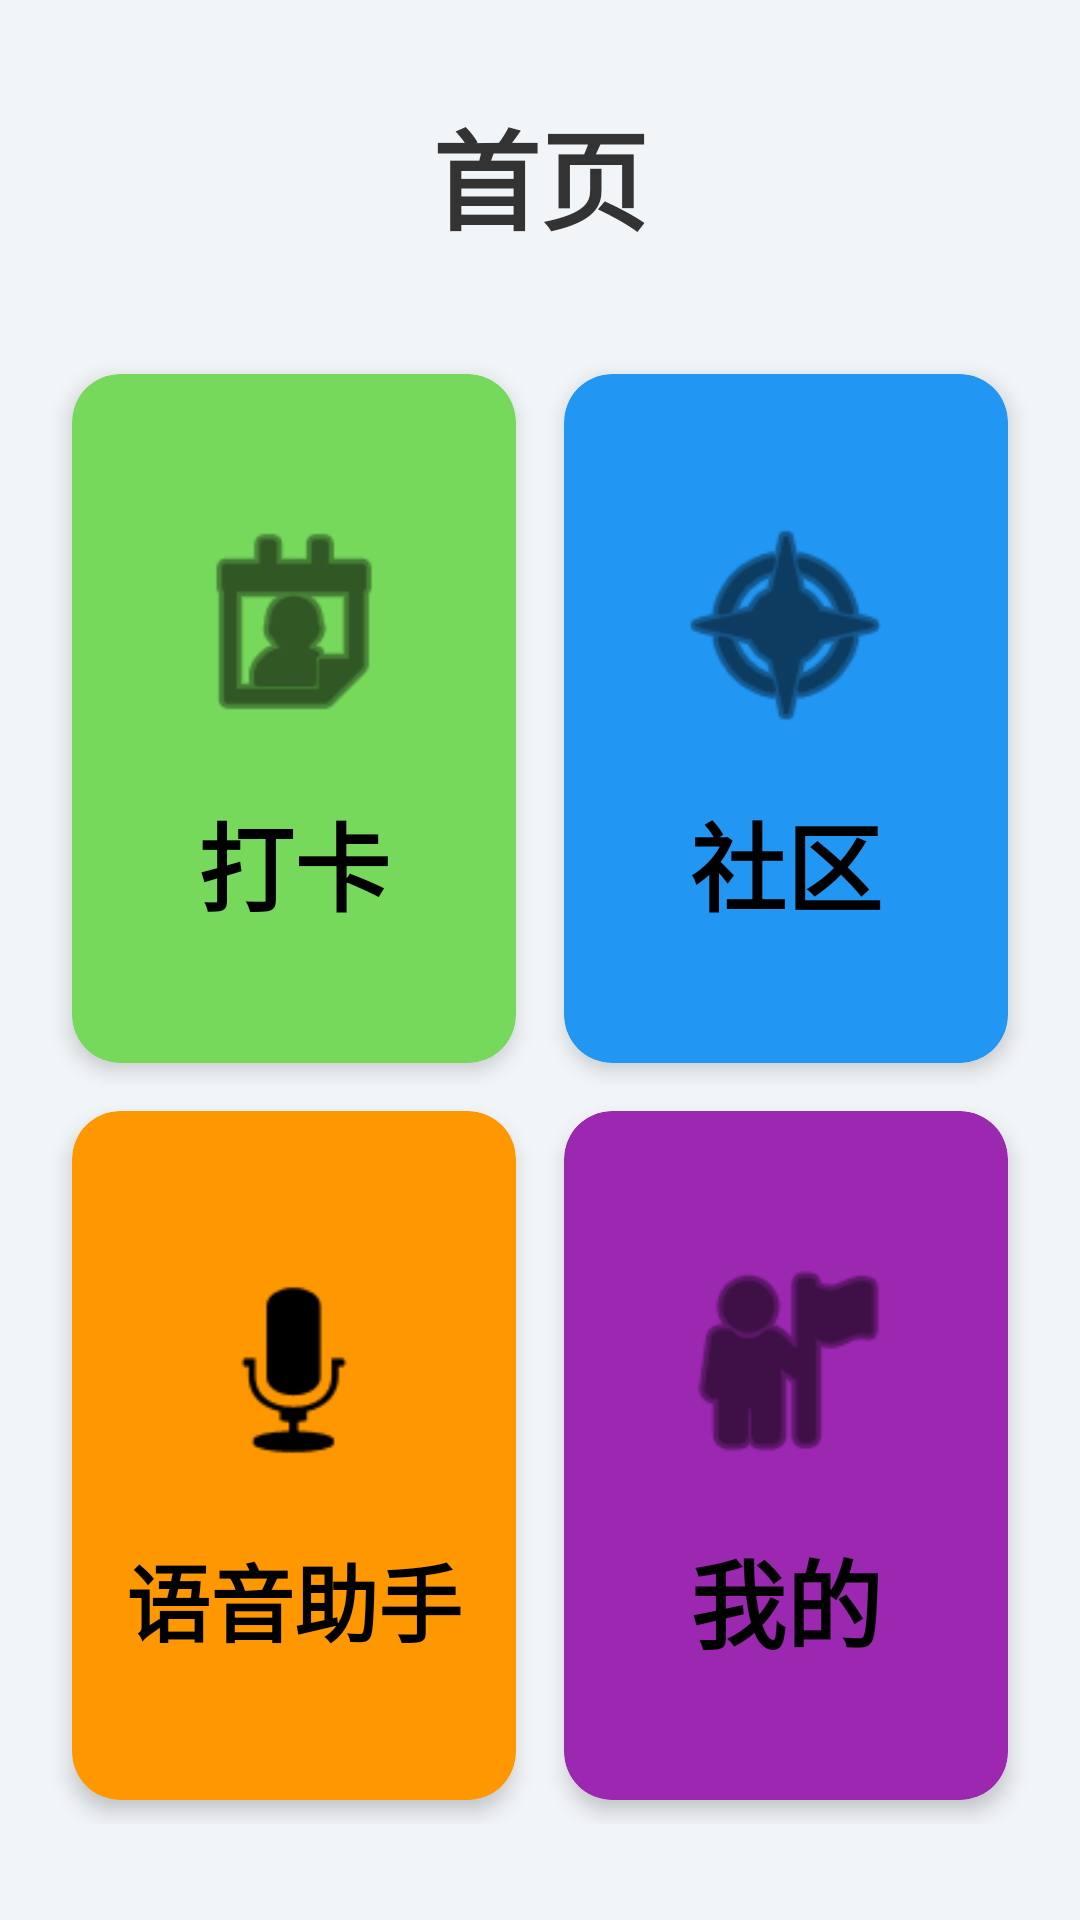

Screen size 1080 x 1920. Icon name, then its center in pixels as point (x, y):
calendar: point (294, 621)
compass: point (785, 625)
myplaces: point (788, 1361)
speak now: point (294, 1370)
